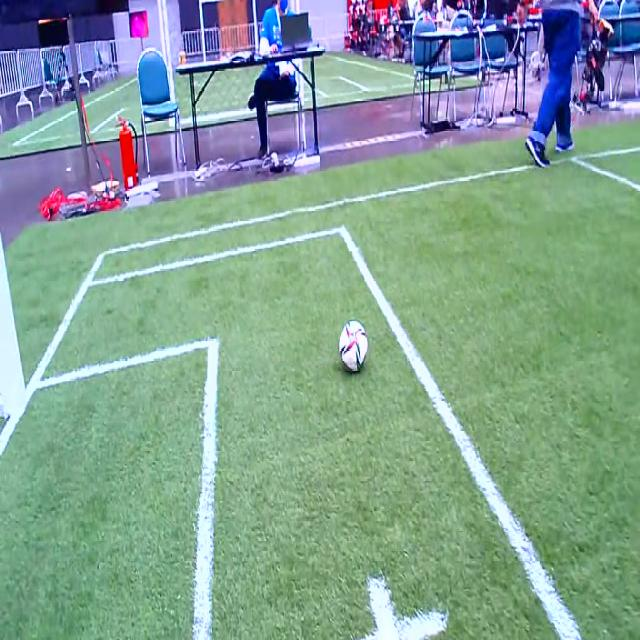ball: (340, 322, 368, 370)
